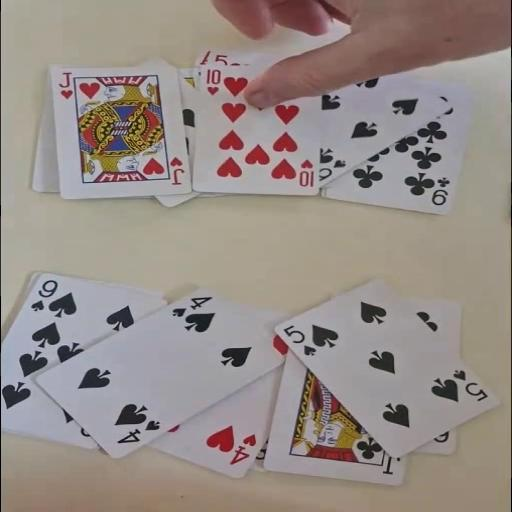10: (297, 157, 316, 189)
4: (113, 419, 162, 444), (226, 432, 259, 466), (169, 294, 214, 318)
5: (449, 367, 490, 402), (280, 323, 319, 357)
9: (27, 278, 59, 312), (429, 175, 452, 206)
J: (166, 154, 186, 186), (56, 70, 74, 100)
